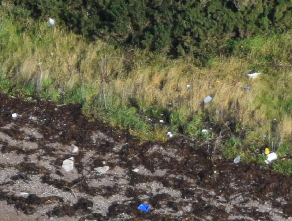scattered_barrel: (156, 61, 292, 170), (57, 138, 156, 221)
white_in_green: (24, 1, 81, 40), (1, 97, 30, 129)
